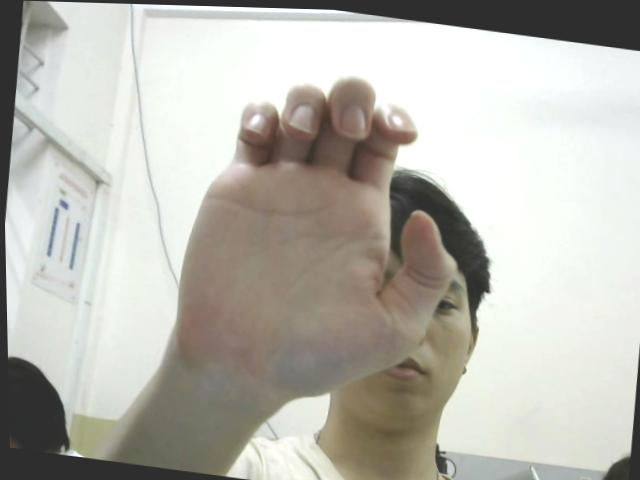E: (161, 50, 476, 407)
